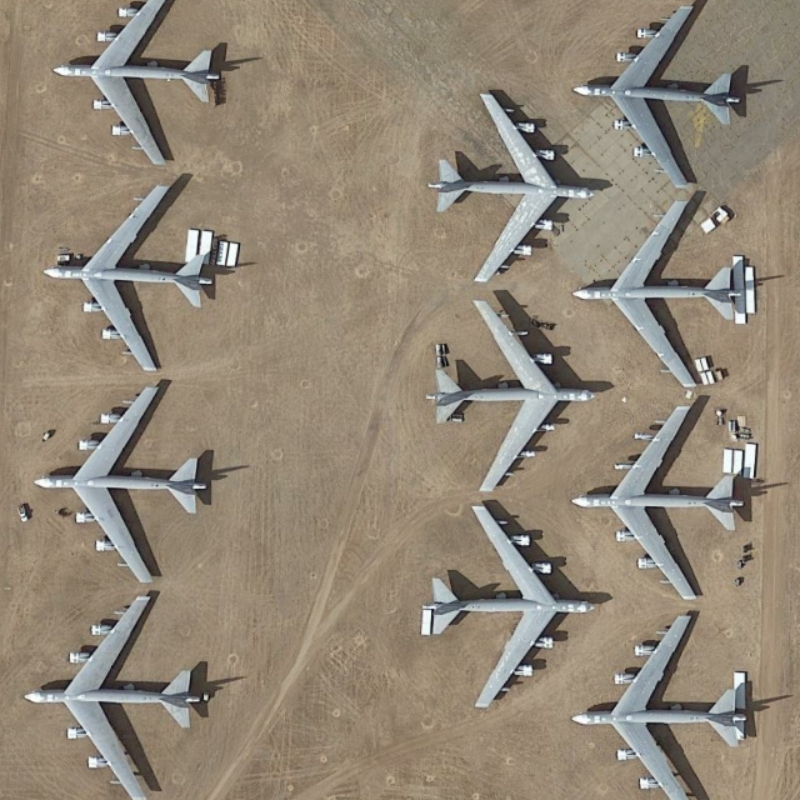A8: (22, 589, 219, 800), (28, 377, 218, 584), (423, 495, 601, 710), (573, 604, 765, 800), (570, 395, 749, 605), (569, 191, 754, 394), (421, 294, 601, 498), (429, 78, 601, 289), (40, 177, 225, 370), (571, 4, 748, 193), (48, 2, 230, 169)
